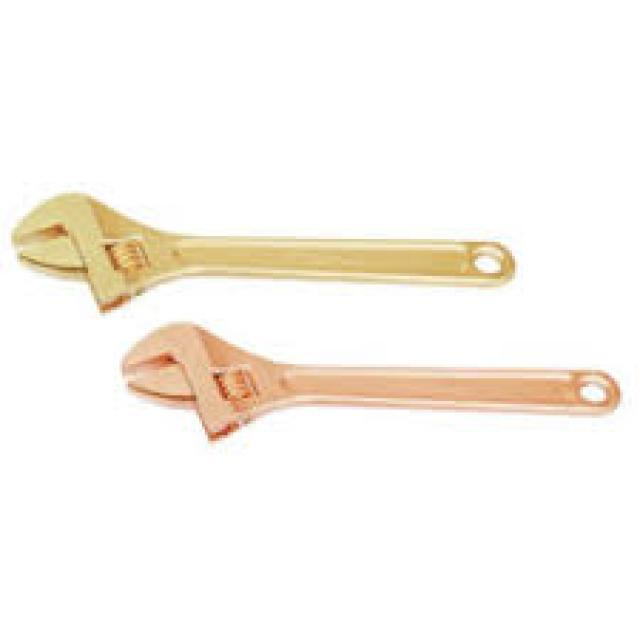wrench: (113, 315, 625, 453), (3, 186, 522, 316)
